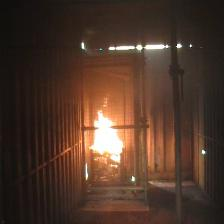fire: (89, 105, 128, 167)
